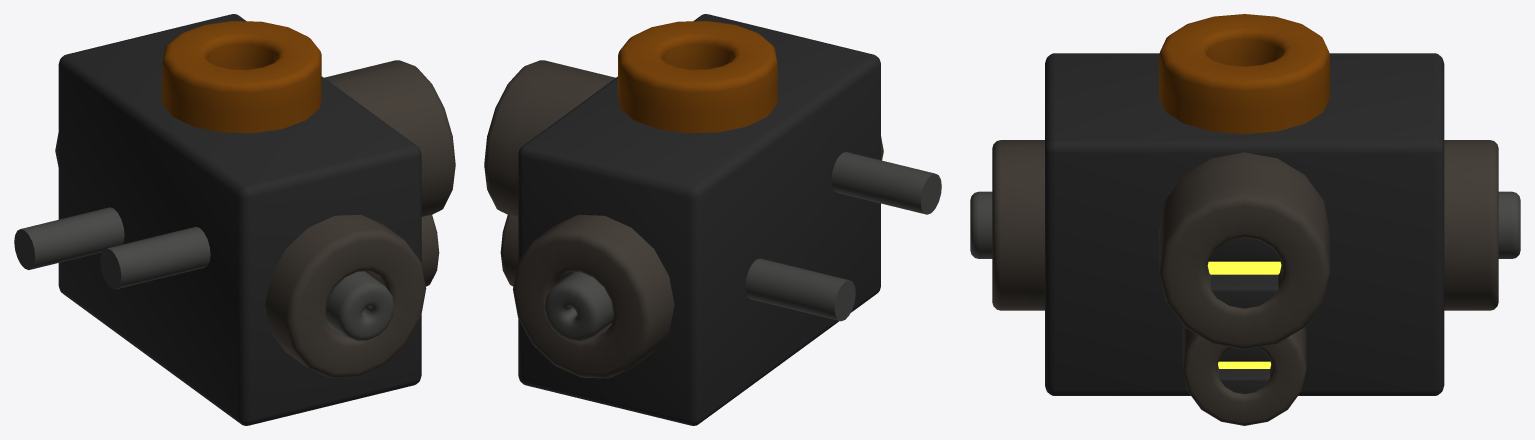
File: Основа(внутреняя).fbx
3 renders of one model, left to right at view 1: azimuth 30°, elevation 25°; view 2: azimuth 150°, elevation 25°; view 3: azimuth 270°, elevation 25°, orthographic. The views are drawn at different scales.
Visible parts, largest first — view 1: Cube_4, Tube_3, Tube_2, Tube, Cylinder, Cylinder_1, Tube_4, Tube_1; view 2: Cube_4, Tube_3, Tube_2, Tube, Cylinder_1, Cylinder, Tube_4, Tube_1; view 3: Cube_4, Tube, Tube_3, Tube_2, Tube_1, Tube_4, Cube_14, Cube_12, Cube_15, Cylinder_2, Cube_13.
Part boxes in pixels (left/top/right/bottom): Cube_4: left=58, top=14, right=421, bottom=425; Tube_3: left=55, top=133, right=426, bottom=377; Tube_2: left=162, top=21, right=321, bottom=133; Tube: left=324, top=60, right=455, bottom=216; Cylinder: left=100, top=226, right=210, bottom=289; Cylinder_1: left=14, top=207, right=124, bottom=269; Tube_4: left=325, top=271, right=394, bottom=340; Tube_1: left=421, top=214, right=439, bottom=286; Cube_4: left=518, top=14, right=880, bottom=425; Tube_3: left=513, top=136, right=883, bottom=378; Tube_2: left=618, top=21, right=777, bottom=133; Tube: left=484, top=60, right=615, bottom=216; Cylinder_1: left=745, top=258, right=855, bottom=321; Cylinder: left=831, top=152, right=941, bottom=214; Tube_4: left=544, top=272, right=613, bottom=341; Tube_1: left=500, top=214, right=518, bottom=286; Cube_4: left=1045, top=53, right=1444, bottom=395; Tube: left=1159, top=152, right=1329, bottom=349; Tube_3: left=992, top=140, right=1498, bottom=310; Tube_2: left=1159, top=14, right=1329, bottom=134; Tube_1: left=1182, top=326, right=1306, bottom=425; Tube_4: left=970, top=191, right=1520, bottom=258; Cube_14: left=1210, top=274, right=1278, bottom=308; Cube_12: left=1208, top=237, right=1280, bottom=261; Cube_15: left=1219, top=369, right=1270, bottom=393; Cylinder_2: left=1207, top=261, right=1281, bottom=274; Cube_13: left=1218, top=347, right=1270, bottom=361.
Bounding box in the file's own units: 66.78 × 51.12 × 83.34.
